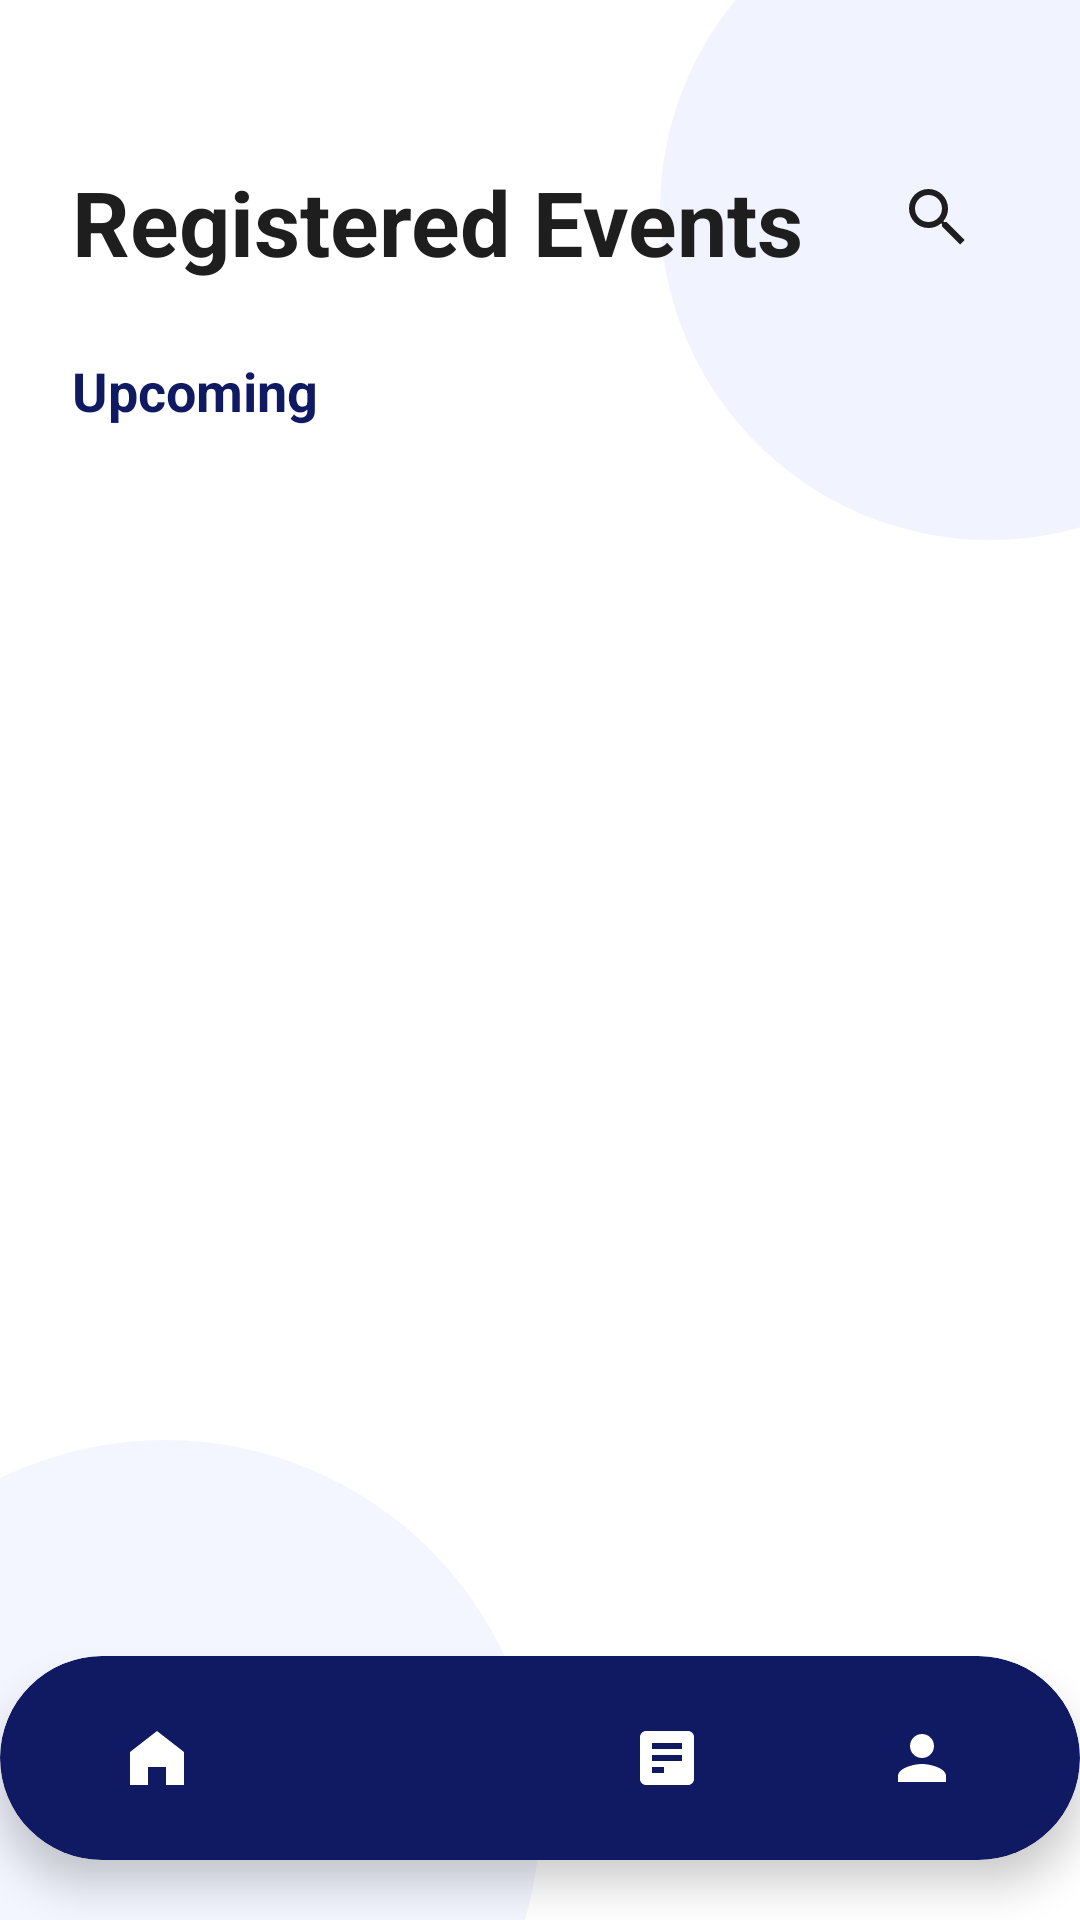

Named icons in this screenshot (1080 × 1920) and their centers, [x,y]:
Home: [157,1758]
Profile: [922,1758]
